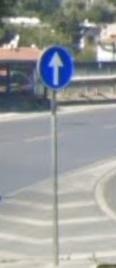forward: (41, 46, 74, 91)
